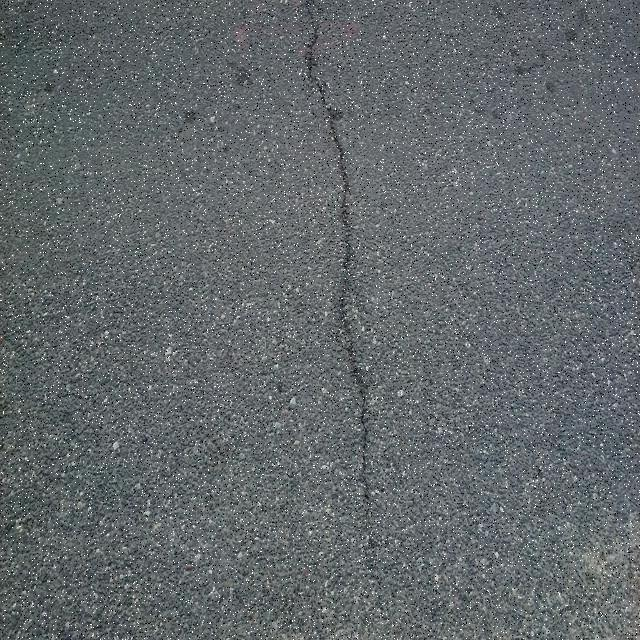Crack: (305, 0, 389, 561)
